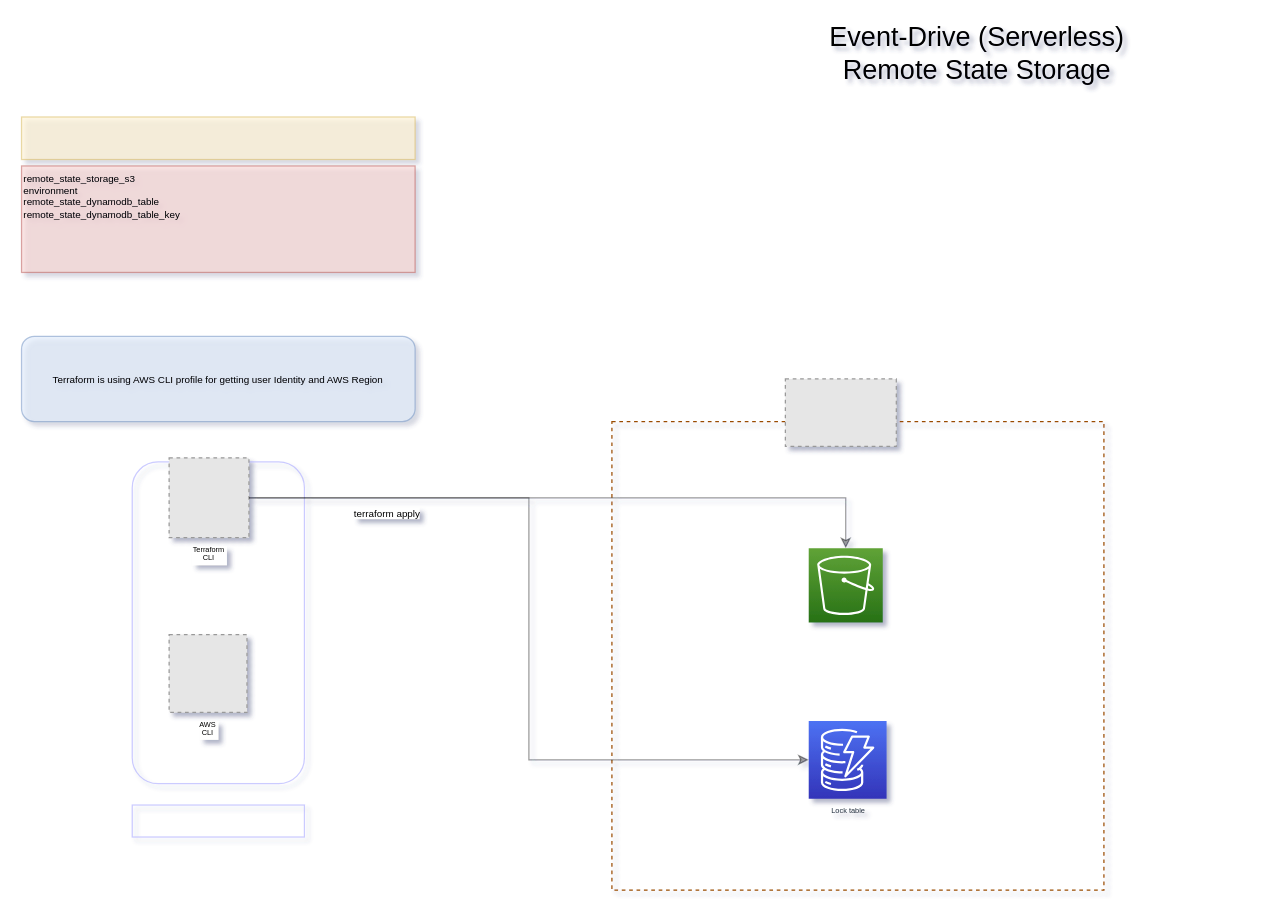
Some shapes in this 1280 by 920 pixel diagram are drawn without their labels. Grey dashed boxes stand in for pictures. Here are the shapes that lost their labels. From the top down, the centre of each, then its label:
At (217,138): "Terraform Environment Variables".
At (845,584): "Remote State Storage".
At (217,820): "Operator Instance".
